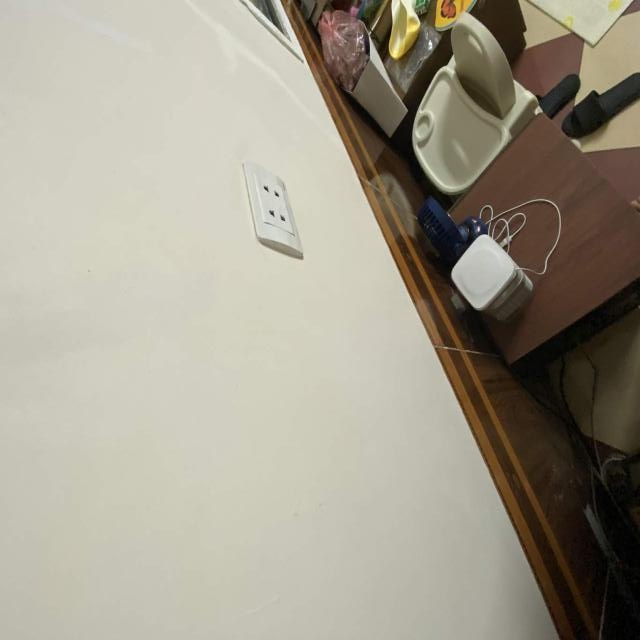outlet: (241, 160, 303, 260)
